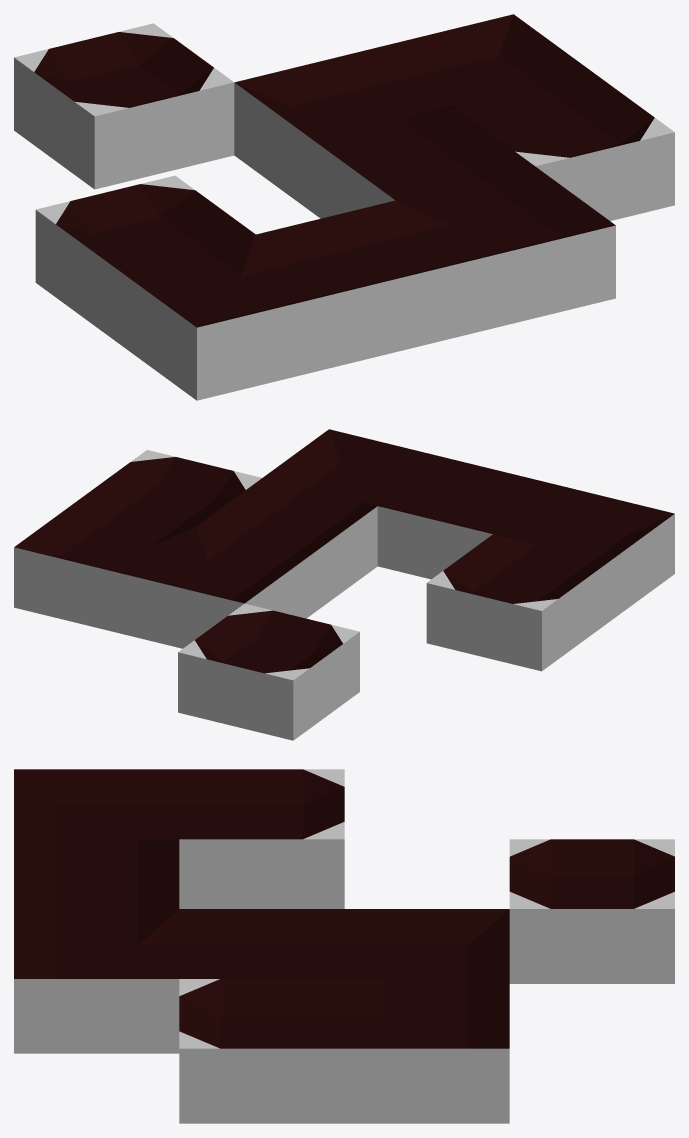
The model's file is 28f_path.obj.
3 views of the same model, one above another, from view 1: azimuth 30°, elevation 25°; view 2: azimuth 150°, elevation 25°; view 3: azimuth 270°, elevation 25° (orthographic). The views are drawn at different scales.
Visible parts, largest first — view 1: foil.hole.1.3_Cube.057, foil.corner.0.0_corner.278, foil.through.1.0_through.056, foil.corner.2.0_corner.279, foil.ending.0.1_ending.111, foil.corner.2.2_corner.280, foil.ending.3.1_ending.112, foil.through.2.1_through.057, foil.corner.3.2_corner.281; view 2: foil.hole.1.3_Cube.057, foil.ending.0.1_ending.111, foil.corner.3.2_corner.281, foil.corner.2.2_corner.280, foil.through.1.0_through.056, foil.corner.0.0_corner.278, foil.through.2.1_through.057, foil.corner.2.0_corner.279, foil.ending.3.1_ending.112; view 3: foil.hole.1.3_Cube.057, foil.ending.3.1_ending.112, foil.ending.0.1_ending.111, foil.corner.3.2_corner.281, foil.corner.2.0_corner.279, foil.corner.0.0_corner.278, foil.corner.2.2_corner.280, foil.through.1.0_through.056, foil.through.2.1_through.057.
Boxes of the visible parts, box(x1,y1,x2,y2) form: foil.hole.1.3_Cube.057: box(14, 23, 234, 189); foil.corner.0.0_corner.278: box(116, 235, 336, 400); foil.through.1.0_through.056: box(256, 200, 476, 366); foil.corner.2.0_corner.279: box(396, 166, 615, 332); foil.ending.0.1_ending.111: box(35, 175, 255, 341); foil.corner.2.2_corner.280: box(234, 48, 453, 214); foil.ending.3.1_ending.112: box(455, 73, 674, 220); foil.through.2.1_through.057: box(315, 107, 534, 218); foil.corner.3.2_corner.281: box(374, 14, 593, 116); foil.hole.1.3_Cube.057: box(178, 603, 359, 740); foil.ending.0.1_ending.111: box(426, 534, 608, 671); foil.corner.3.2_corner.281: box(14, 498, 195, 635); foil.corner.2.2_corner.280: box(129, 527, 311, 648); foil.through.1.0_through.056: box(377, 457, 559, 579); foil.corner.0.0_corner.278: box(493, 485, 674, 622); foil.through.2.1_through.057: box(196, 478, 377, 614); foil.corner.2.0_corner.279: box(263, 429, 443, 513); foil.ending.3.1_ending.112: box(81, 450, 261, 534); foil.hole.1.3_Cube.057: box(509, 839, 674, 983); foil.ending.3.1_ending.112: box(179, 979, 344, 1123); foil.ending.0.1_ending.111: box(179, 769, 344, 908); foil.corner.3.2_corner.281: box(344, 979, 509, 1123); foil.corner.2.0_corner.279: box(14, 909, 179, 1053); foil.corner.0.0_corner.278: box(14, 769, 179, 857); foil.corner.2.2_corner.280: box(344, 909, 509, 997); foil.through.1.0_through.056: box(14, 839, 179, 927); foil.through.2.1_through.057: box(179, 909, 344, 978).
Bounding box in the file's own units: 8 × 1 × 8.
